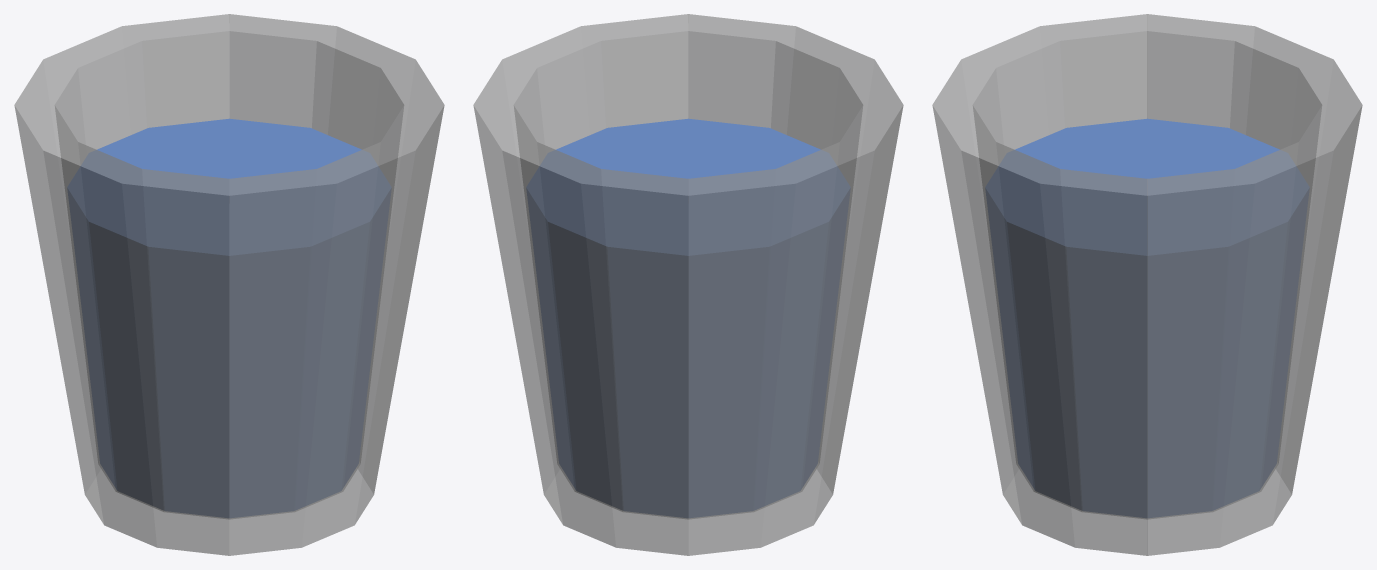
The model's file is glass.fbx.
3 views of the same model, side by side, from view 1: azimuth 30°, elevation 25°; view 2: azimuth 150°, elevation 25°; view 3: azimuth 270°, elevation 25° (orthographic).
Parts seen in each view (by area): view 1: pCylinder1, pCylinder3; view 2: pCylinder1, pCylinder3; view 3: pCylinder1, pCylinder3.
Boxes of the visible parts, box(x1,y1,x2,y2) form: pCylinder1: box(14, 14, 444, 555); pCylinder3: box(67, 118, 391, 517); pCylinder1: box(473, 14, 903, 555); pCylinder3: box(526, 118, 850, 517); pCylinder1: box(932, 14, 1362, 555); pCylinder3: box(985, 118, 1309, 517).
Bounding box in the file's own units: 2 × 2 × 2.
